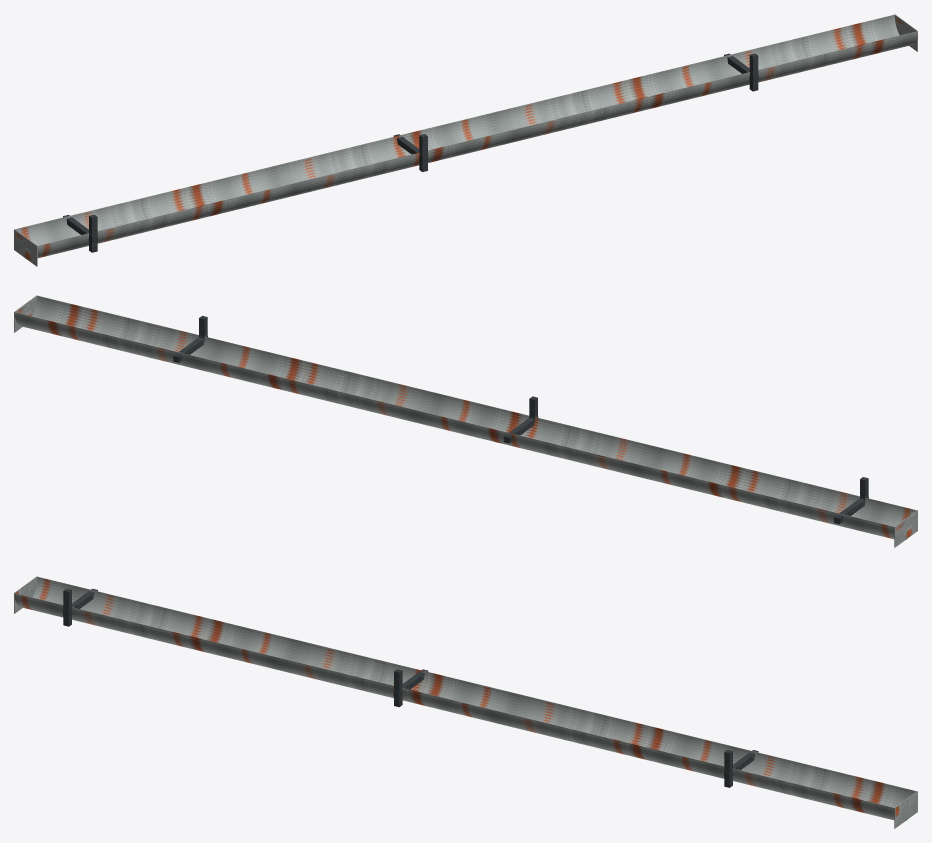
The model's file is ROOF_GUTTER_4000.glb.
3 views of the same model, one above another, from view 1: azimuth 30°, elevation 25°; view 2: azimuth 150°, elevation 25°; view 3: azimuth 330°, elevation 25° (orthographic).
Visible parts, largest first — view 1: ROOF_GUTTER_4000__HalfRound_GutterBody, ROOF_GUTTER_4000__GutterMount_Brackets, ROOF_GUTTER_4000__GutterEndCap_Left; view 2: ROOF_GUTTER_4000__HalfRound_GutterBody, ROOF_GUTTER_4000__GutterMount_Brackets, ROOF_GUTTER_4000__GutterEndCap_Left; view 3: ROOF_GUTTER_4000__HalfRound_GutterBody, ROOF_GUTTER_4000__GutterMount_Brackets, ROOF_GUTTER_4000__GutterEndCap_Right.
Boxes of the visible parts, x1,y1,x2,y2 form: ROOF_GUTTER_4000__HalfRound_GutterBody: (14,14,917,259); ROOF_GUTTER_4000__GutterMount_Brackets: (63,53,758,252); ROOF_GUTTER_4000__GutterEndCap_Left: (14,229,37,266); ROOF_GUTTER_4000__HalfRound_GutterBody: (14,295,917,540); ROOF_GUTTER_4000__GutterMount_Brackets: (173,315,868,524); ROOF_GUTTER_4000__GutterEndCap_Left: (894,510,917,547); ROOF_GUTTER_4000__HalfRound_GutterBody: (14,576,917,821); ROOF_GUTTER_4000__GutterMount_Brackets: (63,588,758,787); ROOF_GUTTER_4000__GutterEndCap_Right: (894,791,917,828).
Size of the model in its own units: 4 by 0.165 by 0.23.
2 materials, 2 textured.
